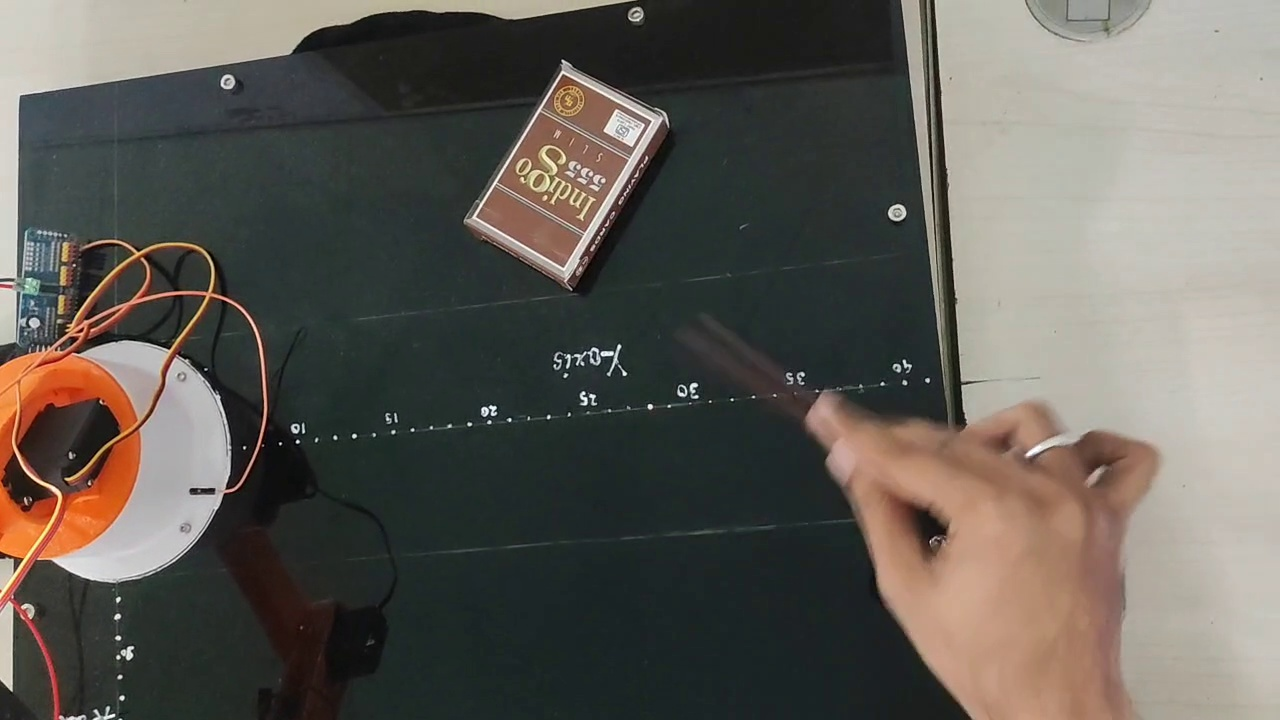BEX: (475, 71, 653, 272)
